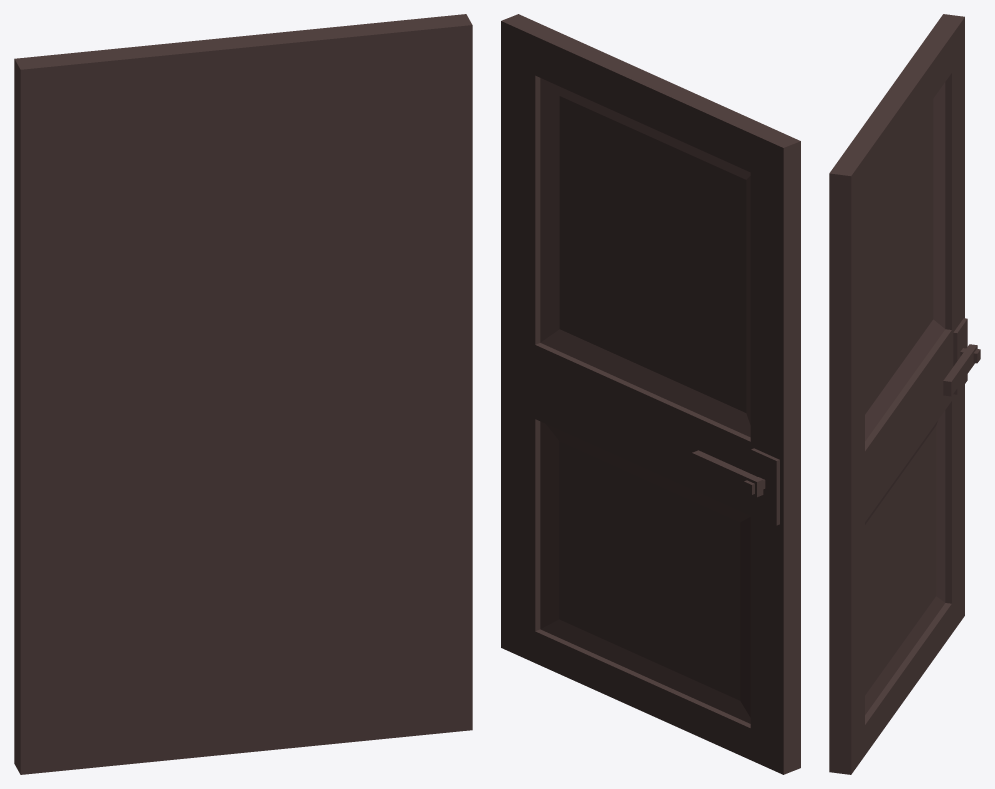
The model's file is door.fbx.
3 renders of one model, left to right at view 1: azimuth 30°, elevation 25°; view 2: azimuth 150°, elevation 25°; view 3: azimuth 270°, elevation 25°, orthographic. The views are drawn at different scales.
Parts seen in each view (by area): view 1: door; view 2: door; view 3: door.
Part boxes in pixels (x1,y1,x2,y2): door: (14, 14, 472, 774); door: (501, 14, 800, 774); door: (829, 14, 980, 774).
Size of the model in its own units: 42.28 by 72.76 by 16.67.
